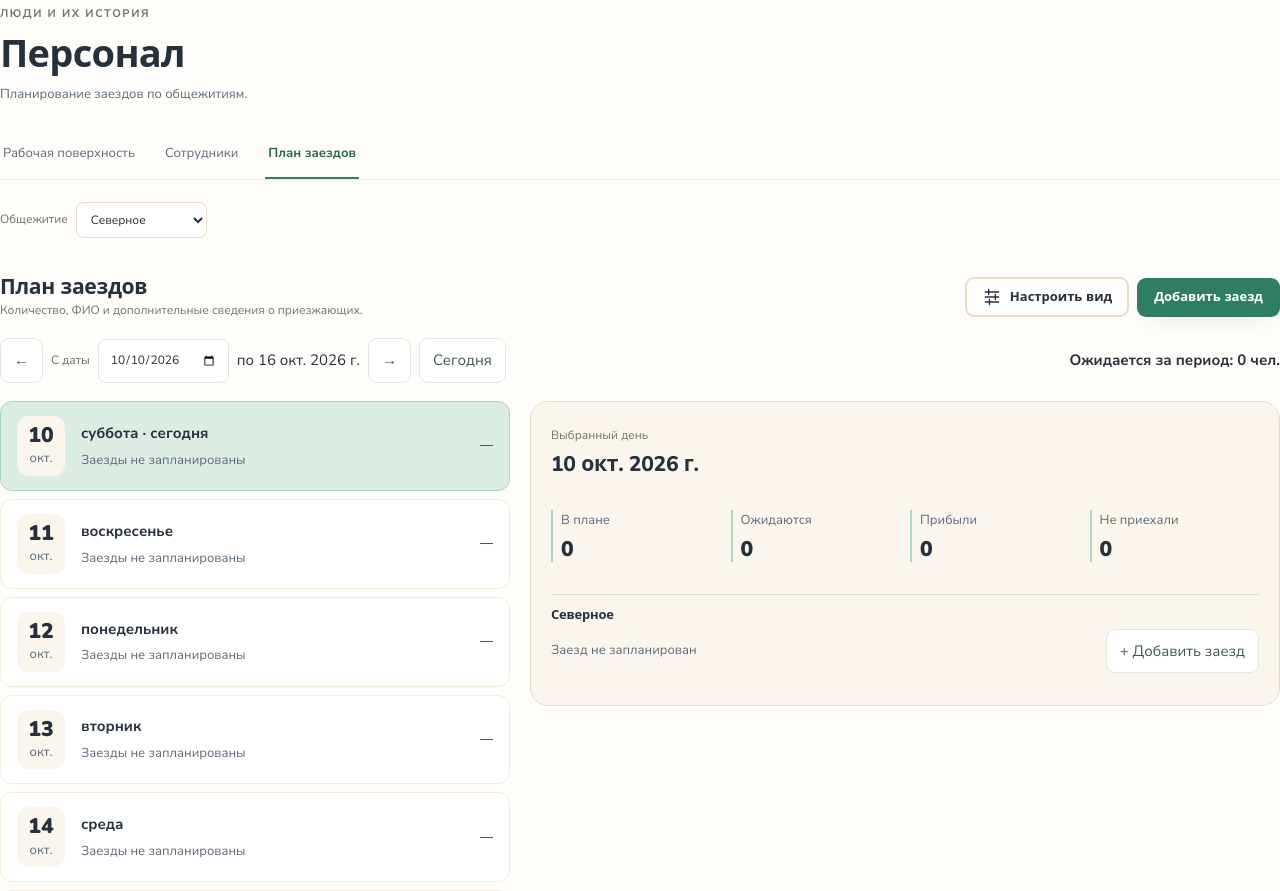
Scenario: открывает простой план из источника отчёта и сохраняет заезд без сотрудников
The image size is (1280, 891).
Click the button with aria-label "Добавить заезд: Северное, 2026-10-10": (1182, 651) x1=1106 y1=629 x2=1259 y2=674
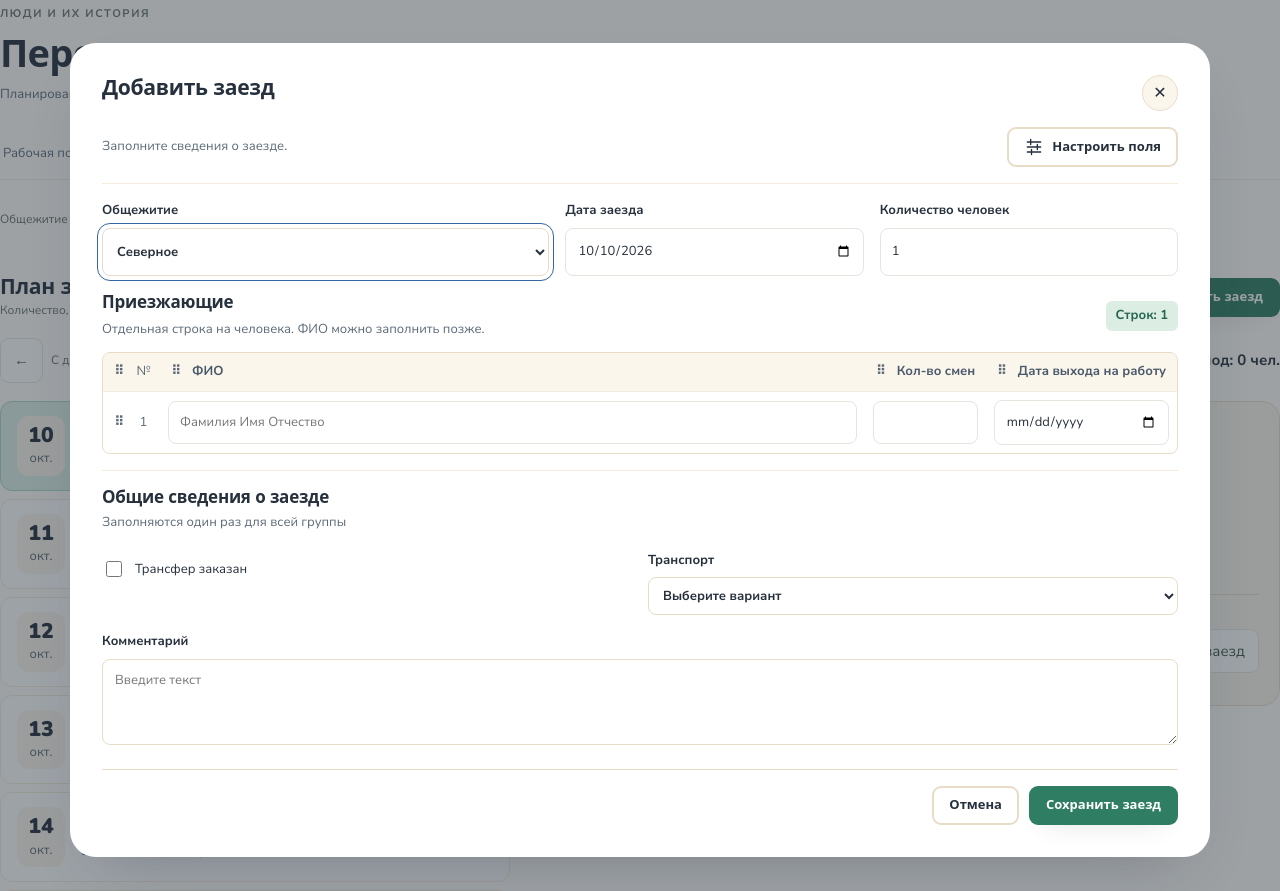
Clear the number field labelled "Количество человек": (1029, 252) x1=880 y1=228 x2=1178 y2=276
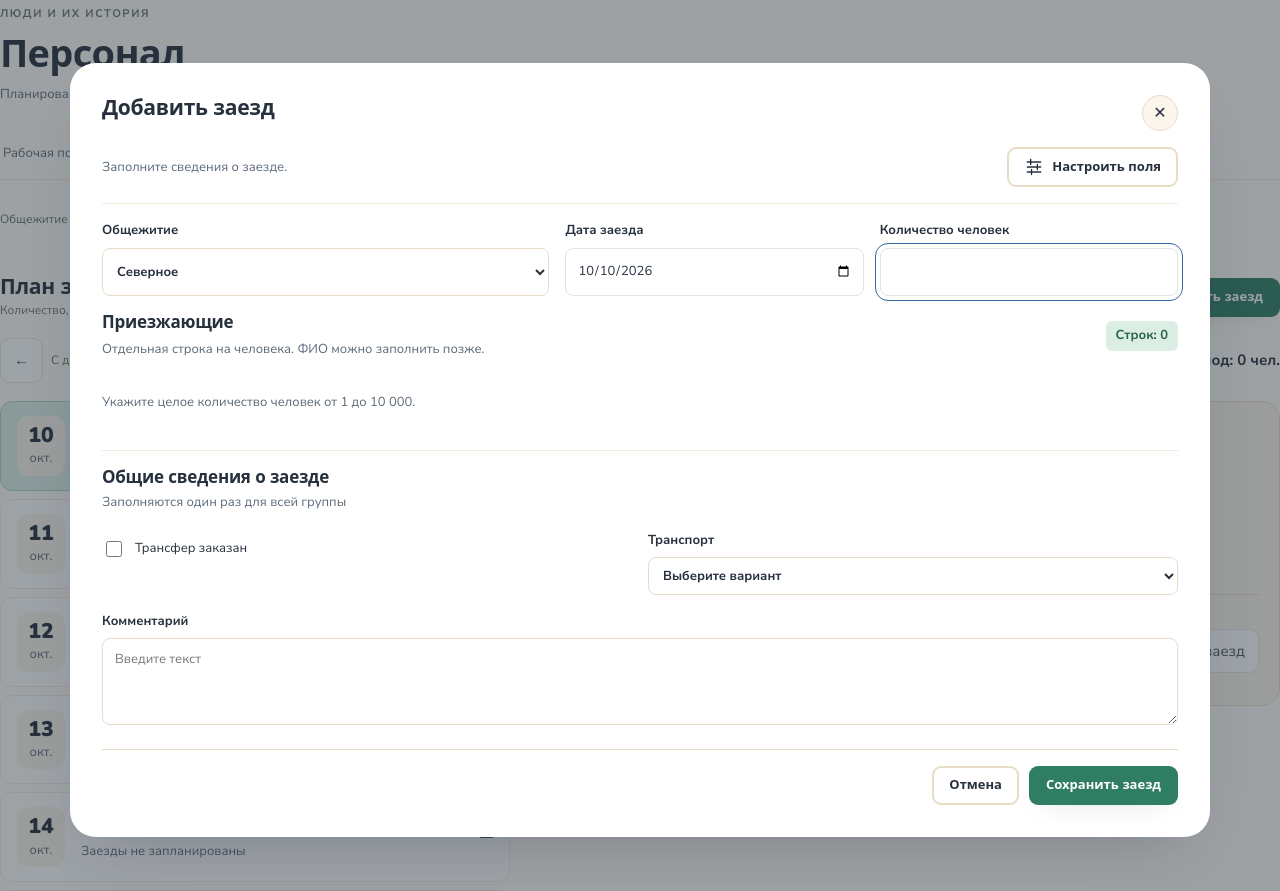
In the number field labelled "Количество человек": (1029, 272) x1=880 y1=248 x2=1178 y2=296, type "10"
(page scrolled)
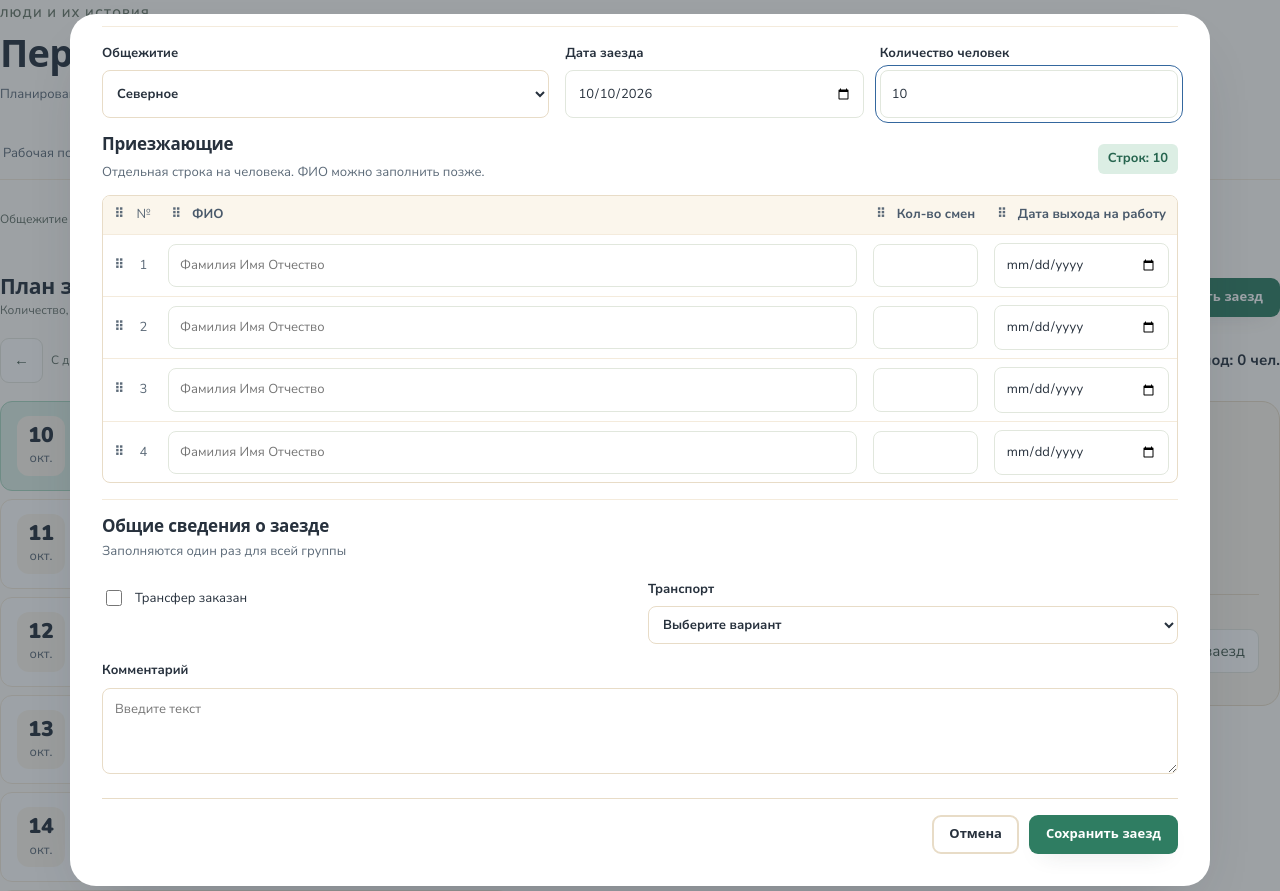
Click the button "Сохранить заезд": (1104, 834) x1=1029 y1=815 x2=1178 y2=854
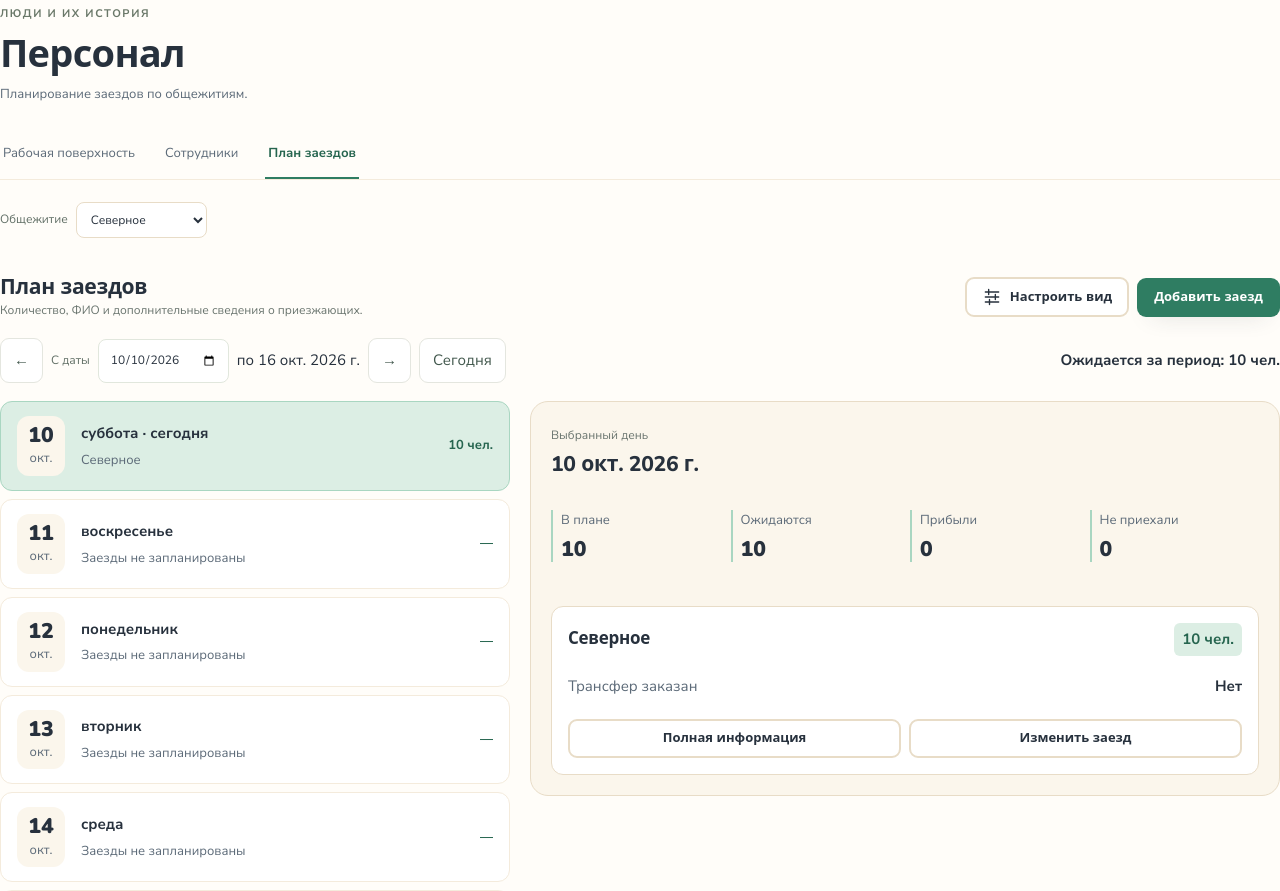
Result: the text "Ожидается за период: 10 чел." is shown at x1=1060 y1=348 x2=1279 y2=373
